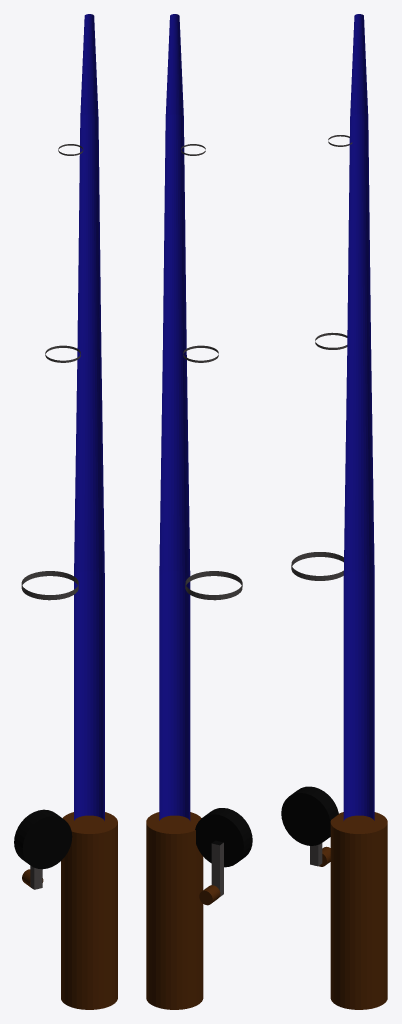
The model's file is FishingPole.fbx.
3 renders of one model, left to right at view 1: azimuth 30°, elevation 25°; view 2: azimuth 150°, elevation 25°; view 3: azimuth 330°, elevation 25°, orthographic.
Visible parts, largest first — view 1: Circle.001; view 2: Circle.001; view 3: Circle.001.
Part boxes in pixels (x1,y1,x2,y2): Circle.001: [14, 14, 117, 1009]; Circle.001: [146, 14, 252, 1009]; Circle.001: [281, 14, 387, 1009].
Size of the model in its own units: 392 by 3791 by 203.
1 material, 1 textured.
